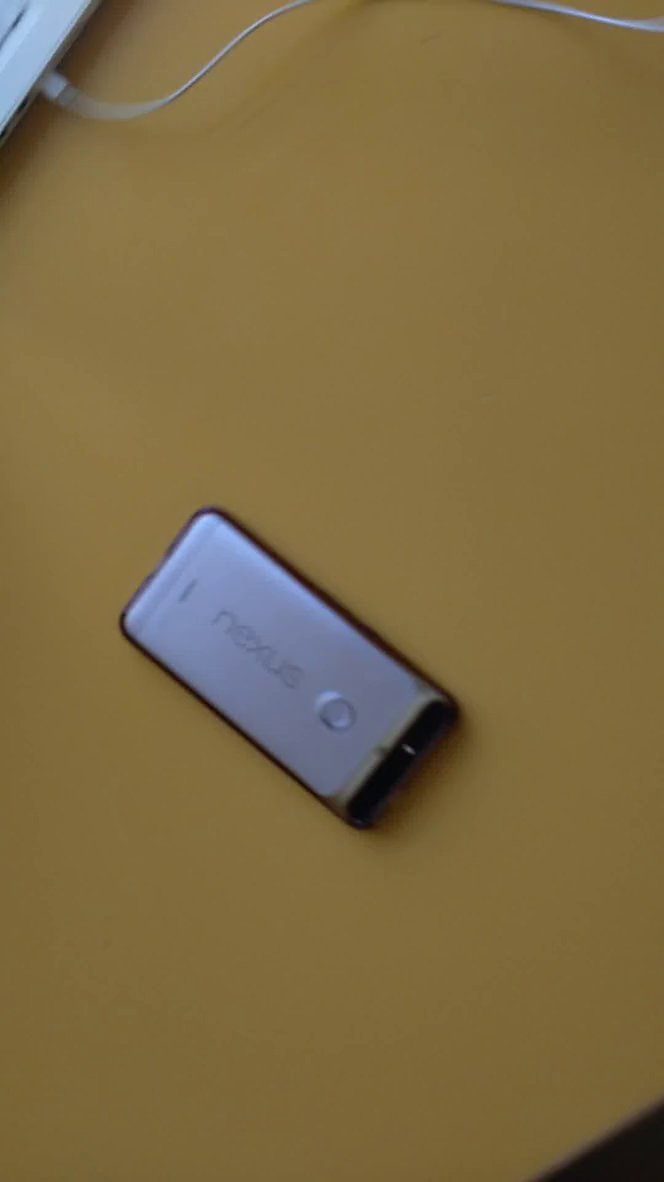phone: (108, 492, 486, 855)
